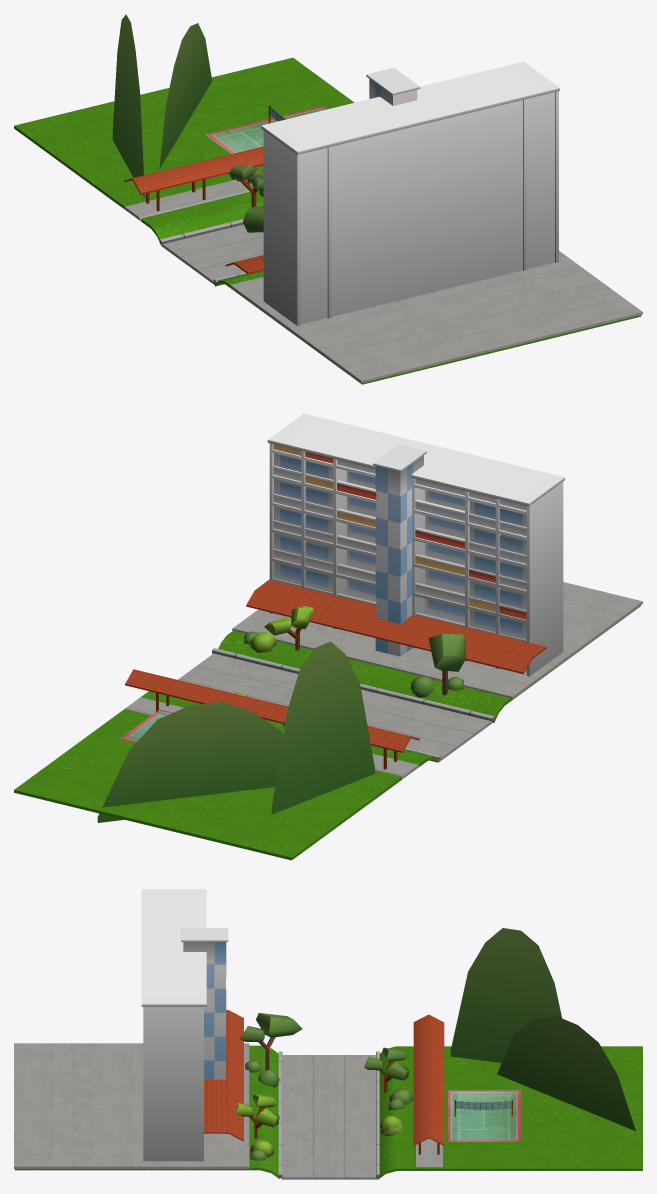
Rendered from Level 2 Chunk 3 V2.fbx.
3 views of the same model, one above another, from view 1: azimuth 30°, elevation 25°; view 2: azimuth 150°, elevation 25°; view 3: azimuth 270°, elevation 25° (orthographic). The views are drawn at different scales.
Parts seen in each view (by area): view 1: pCube15489, pCube15462, pCube15453, pasted__pasted__pCube5604, pasted__pCube5724, pCube15457, pCube15681, pCube15682, pCube15746, pCube15461, pCube15458, pCube15454; view 2: pCube15489, pCube15453, pasted__pasted__pCube5604, pasted__pCube5724, pCube15462, pCube15457, pCube15726, pCube15461, pCube15681, pCube15459, polySurface372, pCube15682 (+1 smaller); view 3: pCube15489, pCube15462, pCube15453, pCube15457, pasted__pCube5724, pasted__pasted__pCube5604, pCube15681, pCube15746, pCube15726, pCube15461, polySurface372, pCube15458 (+4 smaller).
Part boxes in pixels (x1,y1,x2,y2): pCube15489: (261, 61, 559, 325); pCube15462: (230, 251, 642, 382); pCube15453: (14, 57, 354, 245); pasted__pasted__pCube5604: (159, 23, 212, 168); pasted__pCube5724: (112, 14, 144, 197); pCube15457: (161, 224, 263, 284); pCube15681: (124, 146, 263, 194); pCube15682: (123, 179, 253, 220); pCube15746: (205, 105, 326, 153); pCube15461: (215, 270, 641, 384); pCube15458: (229, 165, 263, 207); pCube15454: (159, 219, 243, 244); pCube15489: (267, 413, 564, 676); pCube15453: (14, 691, 438, 860); pasted__pasted__pCube5604: (97, 702, 283, 822); pasted__pCube5724: (271, 641, 374, 814); pCube15462: (232, 582, 642, 699); pCube15457: (178, 653, 491, 762); pCube15726: (246, 579, 546, 673); pCube15461: (218, 605, 640, 722); pCube15681: (125, 669, 419, 752); pCube15459: (212, 648, 494, 721); polySurface372: (428, 633, 466, 695); pCube15682: (126, 697, 419, 779); pCube15489: (141, 889, 228, 1161); pCube15462: (14, 1043, 249, 1168); pCube15453: (378, 1046, 642, 1179); pCube15457: (281, 1055, 377, 1179); pasted__pCube5724: (450, 928, 561, 1062); pasted__pasted__pCube5604: (497, 1016, 635, 1131); pCube15681: (413, 1014, 444, 1145); pCube15746: (448, 1090, 520, 1141); pCube15726: (203, 1010, 243, 1141); pCube15461: (15, 1045, 279, 1178); polySurface372: (240, 1013, 302, 1070); pCube15458: (364, 1047, 409, 1093).
Size of the model in its own units: 12.79 by 8.62 by 26.6.
Materials: 2 (2 with a texture image).
